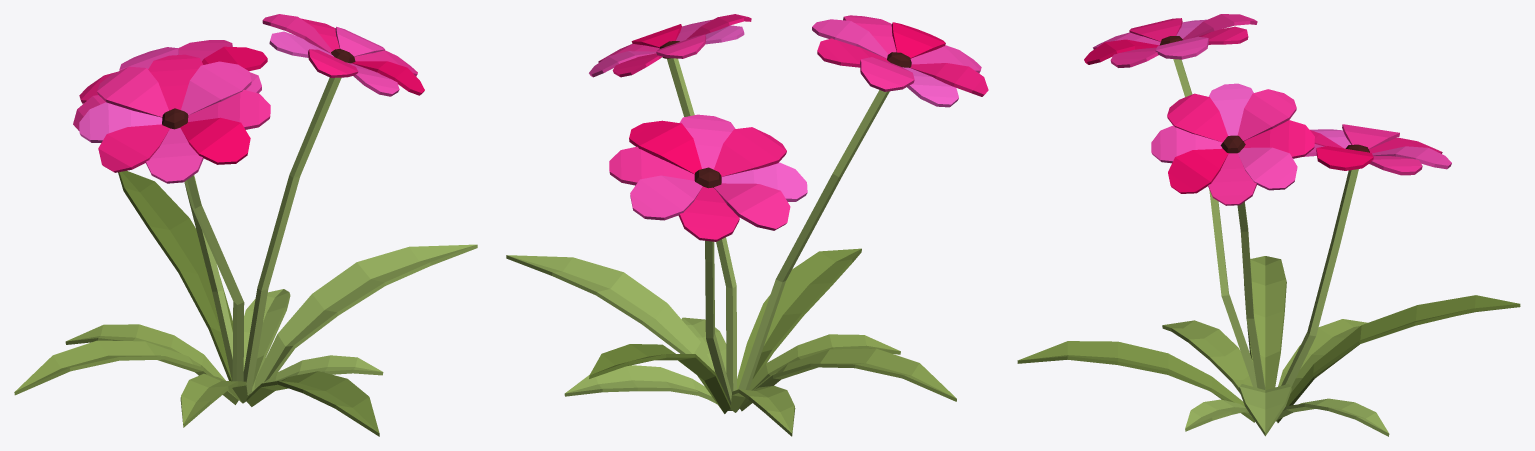
File: Flower_02.fbx
The picture shows the model from 3 angles, left to right: view 1: azimuth 30°, elevation 25°; view 2: azimuth 150°, elevation 25°; view 3: azimuth 270°, elevation 25°; orthographic projection. The views are drawn at different scales.
Parts seen in each view (by area): view 1: Flower_02; view 2: Flower_02; view 3: Flower_02.
Part boxes in pixels (x1,y1,x2,y2): Flower_02: (14, 14, 477, 436); Flower_02: (506, 14, 988, 436); Flower_02: (1017, 14, 1520, 436).
Bounding box in the file's own units: 0.6846 × 0.5353 × 0.6944.
